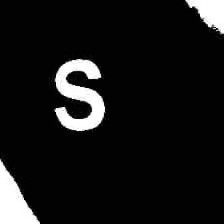LTR_S: (53, 51, 107, 135)
